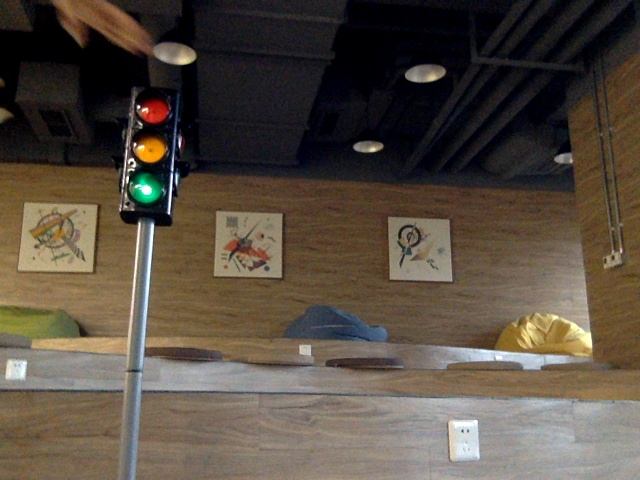green: (130, 97, 166, 214)
